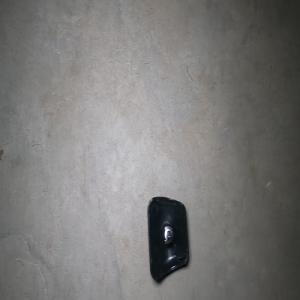LuggagePart: (146, 195, 189, 283)
